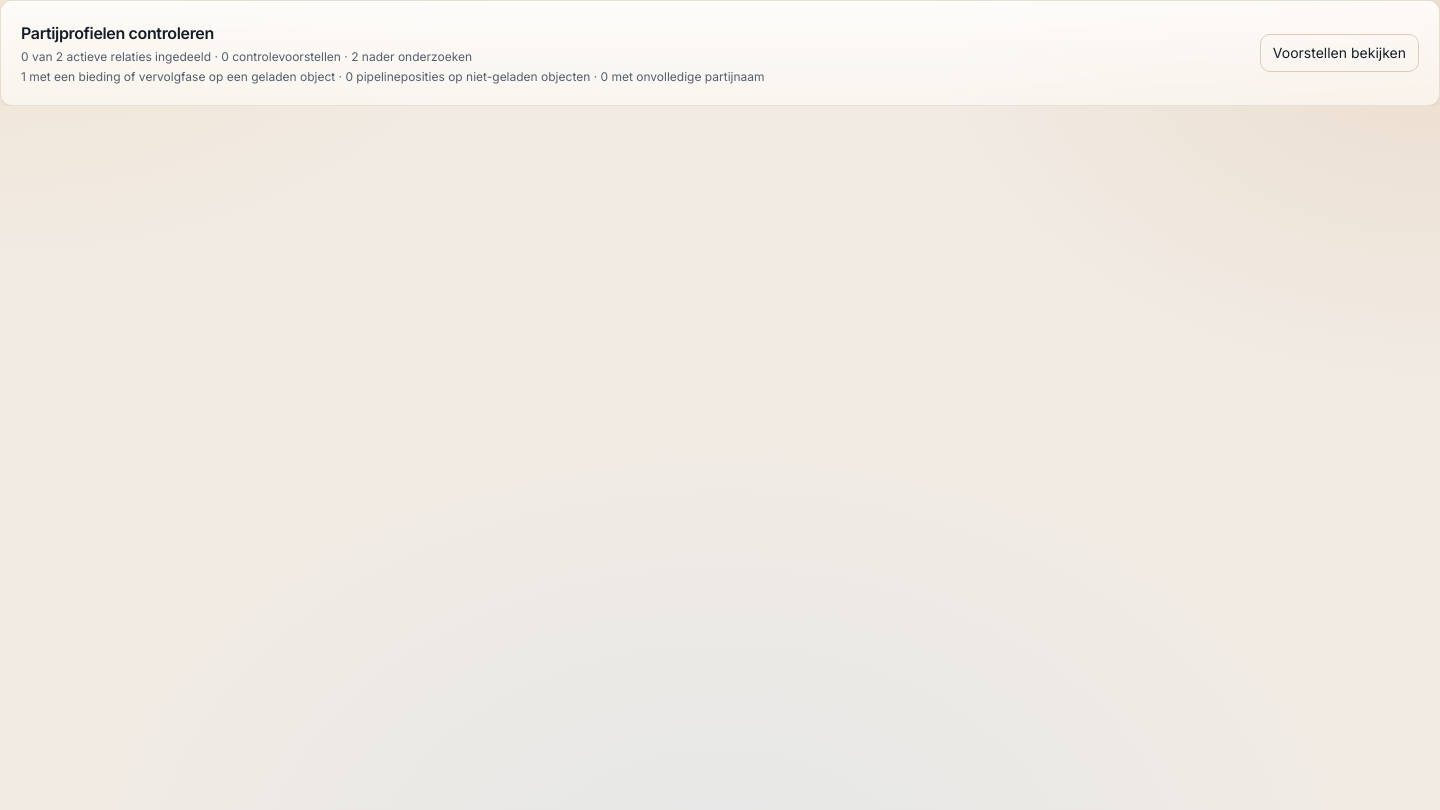
Test case: A15 CRM read-only review UI › A15.7 toont vergevorderde kandidaatposities met object, fase en geregistreerd bod
Click the button "Voorstellen bekijken" at (1339, 53), box 1260,34 -> 1419,72
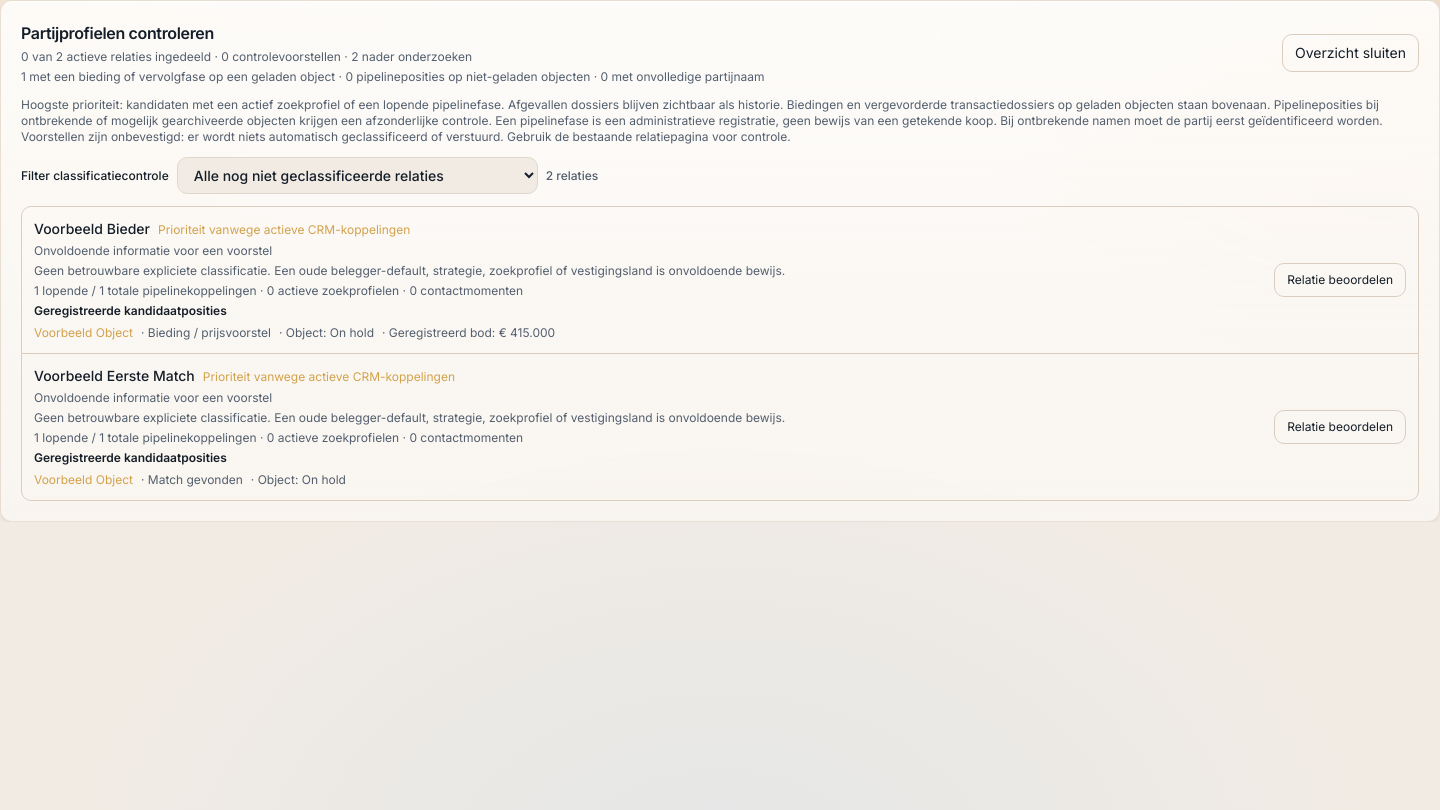
Expected: the text "1 met een bieding of vervolgfase op een geladen object" is shown, 21,69 -> 765,85
Select "Geregistreerd bod of vervolgfase" in the dropdown labelled "Filter classificatiecontrole" at (357, 176), box 177,157 -> 538,194
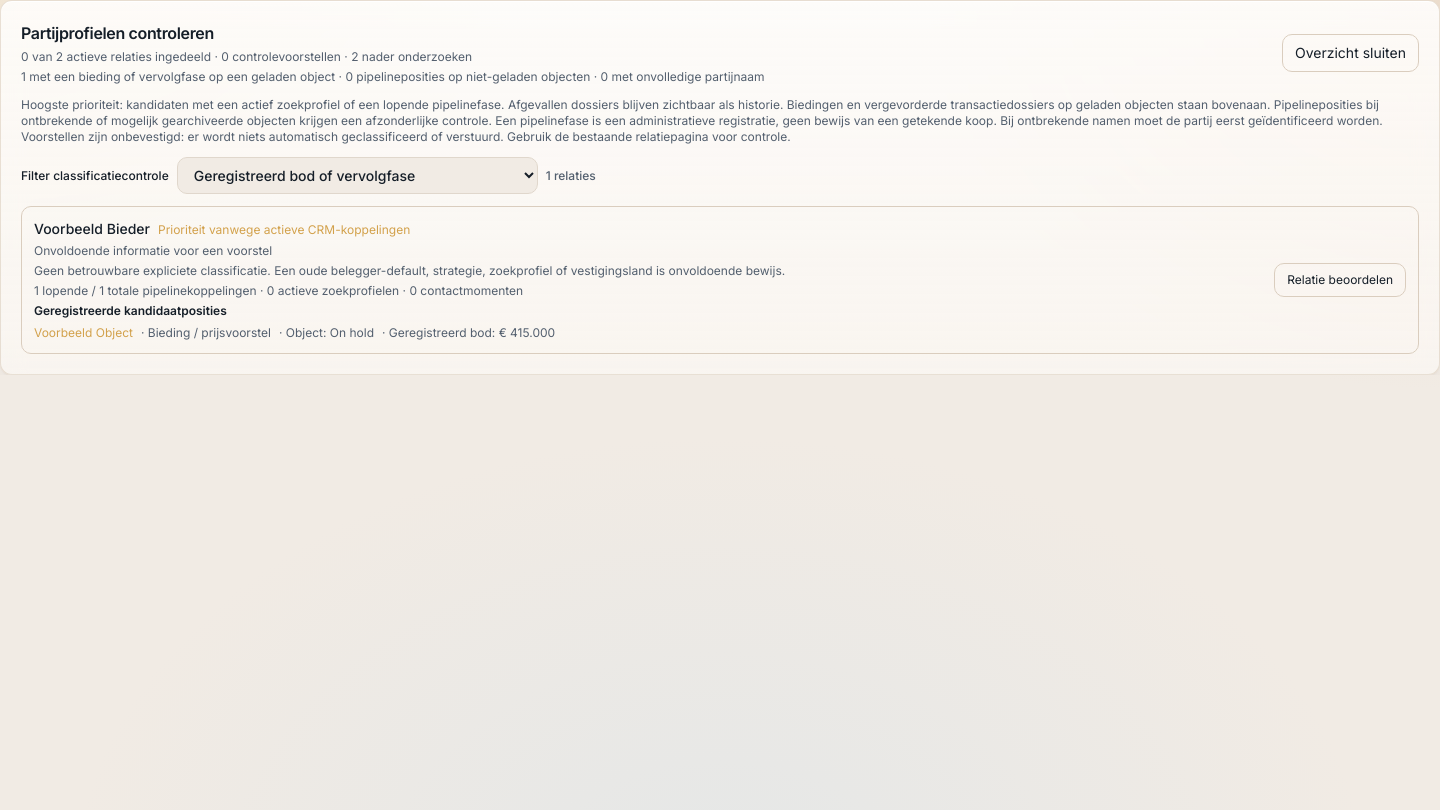
Result: the text "Voorbeeld Bieder" is shown at 34,220 -> 150,237
Result: the text "· Geregistreerd bod: € 415.000" is shown at 382,325 -> 555,341
Result: the text "Voorbeeld Eerste Match" is gone
